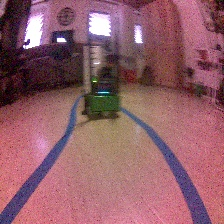rob: (83, 65, 120, 118)
